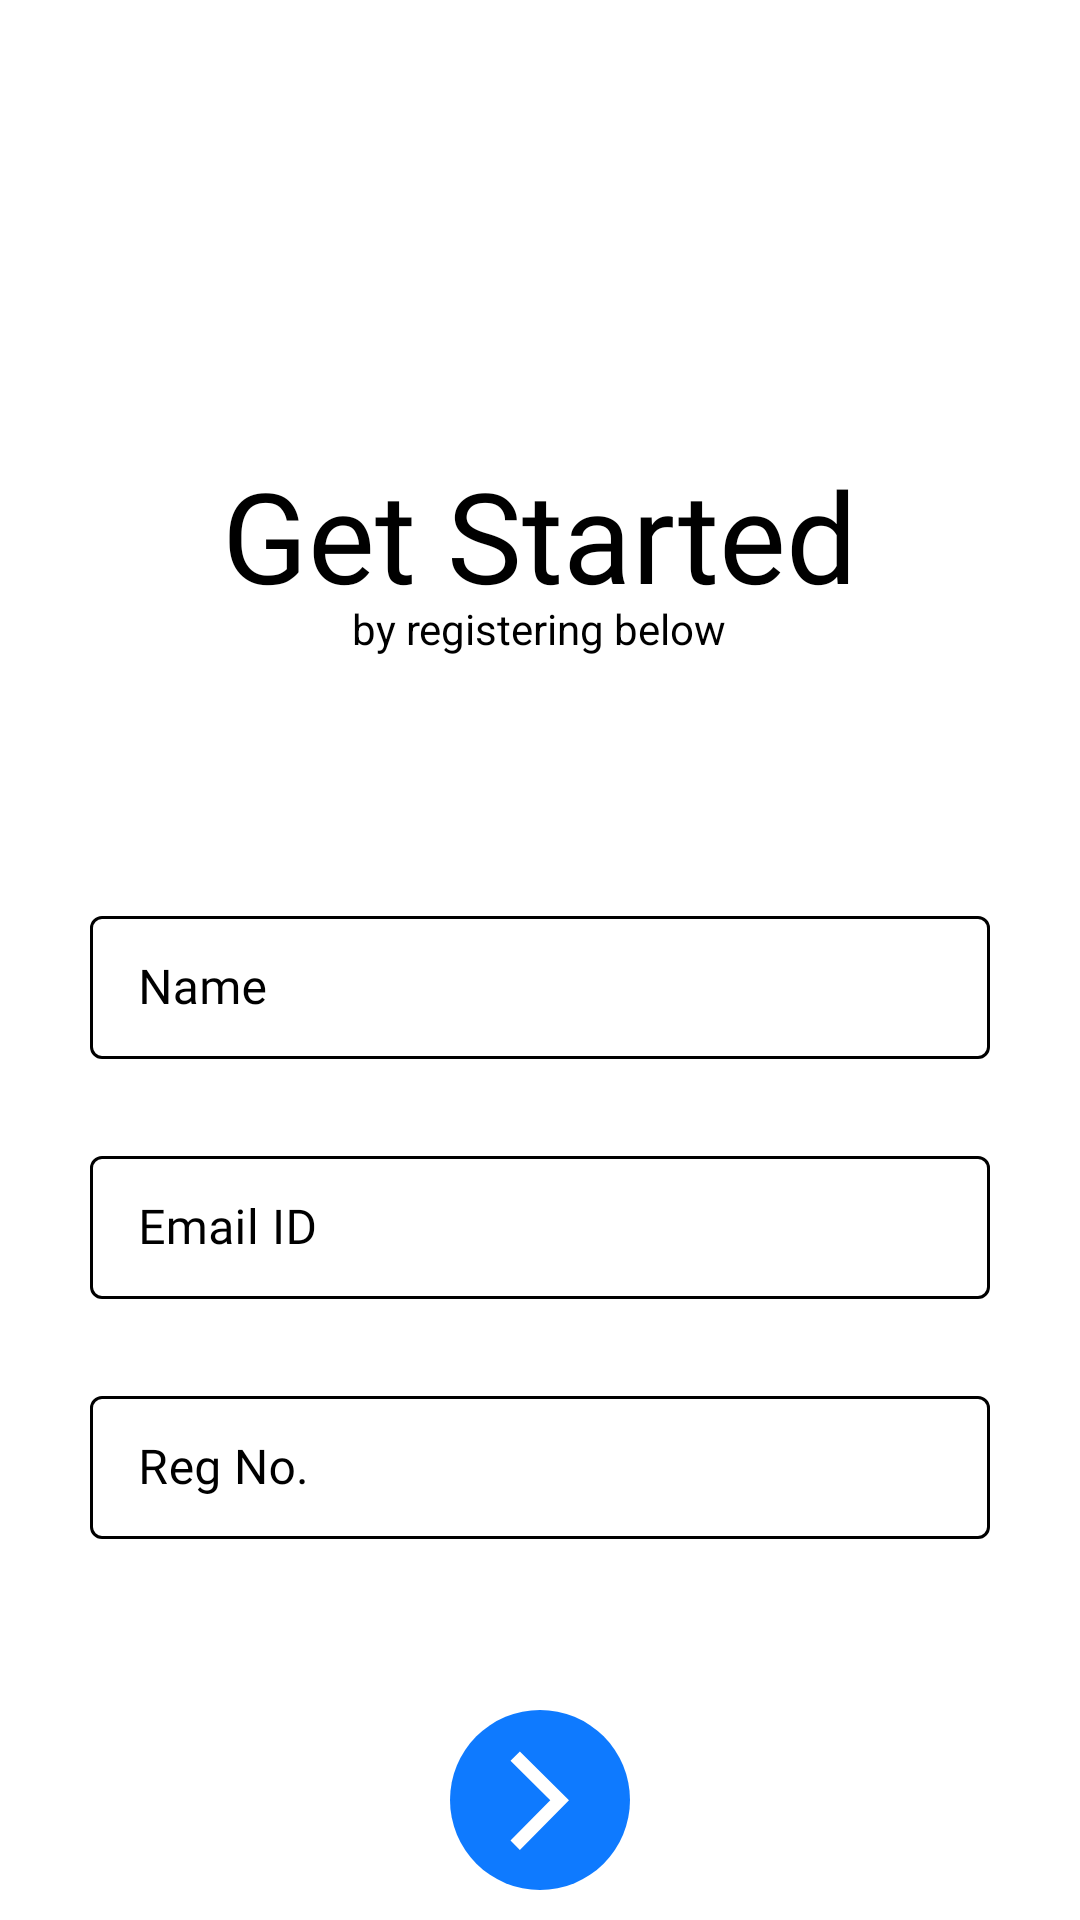

Screen size 1080*1920. Icon name, then its center in pixels as (x,y):
next: (540,1800)
